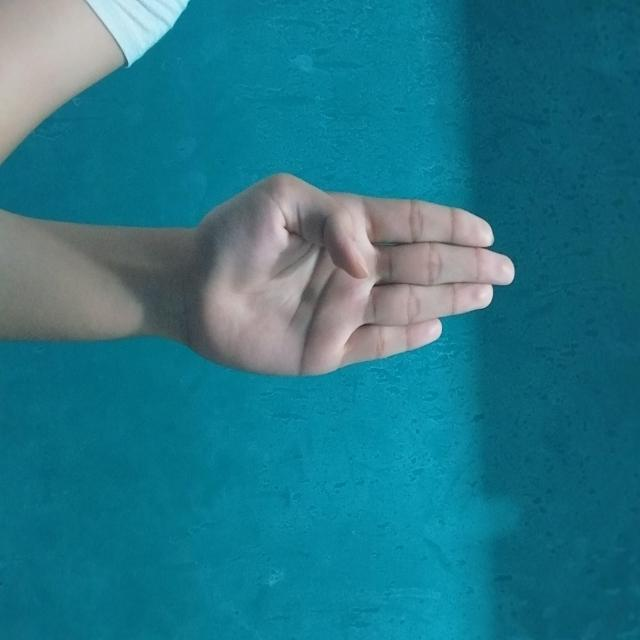B: (173, 125, 380, 447)
